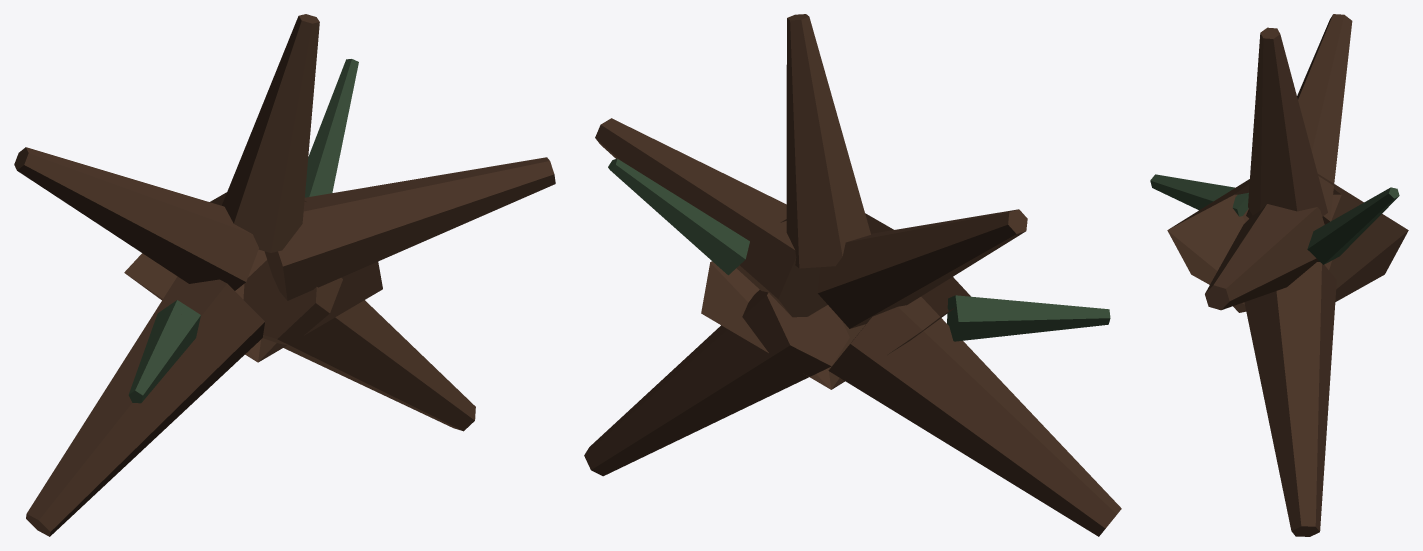
Rendered from blackroot.obj.
The picture shows the model from 3 angles, left to right: view 1: azimuth 30°, elevation 25°; view 2: azimuth 150°, elevation 25°; view 3: azimuth 270°, elevation 25°; orthographic projection. The views are drawn at different scales.
Visible parts, largest first — view 1: blackroot; view 2: blackroot; view 3: blackroot.
Boxes of the visible parts, bbox=[...] form: blackroot: bbox=[14, 14, 555, 536]; blackroot: bbox=[584, 14, 1121, 536]; blackroot: bbox=[1150, 14, 1408, 536].
Bounding box in the file's own units: 1.85 × 1.61 × 0.8769.
